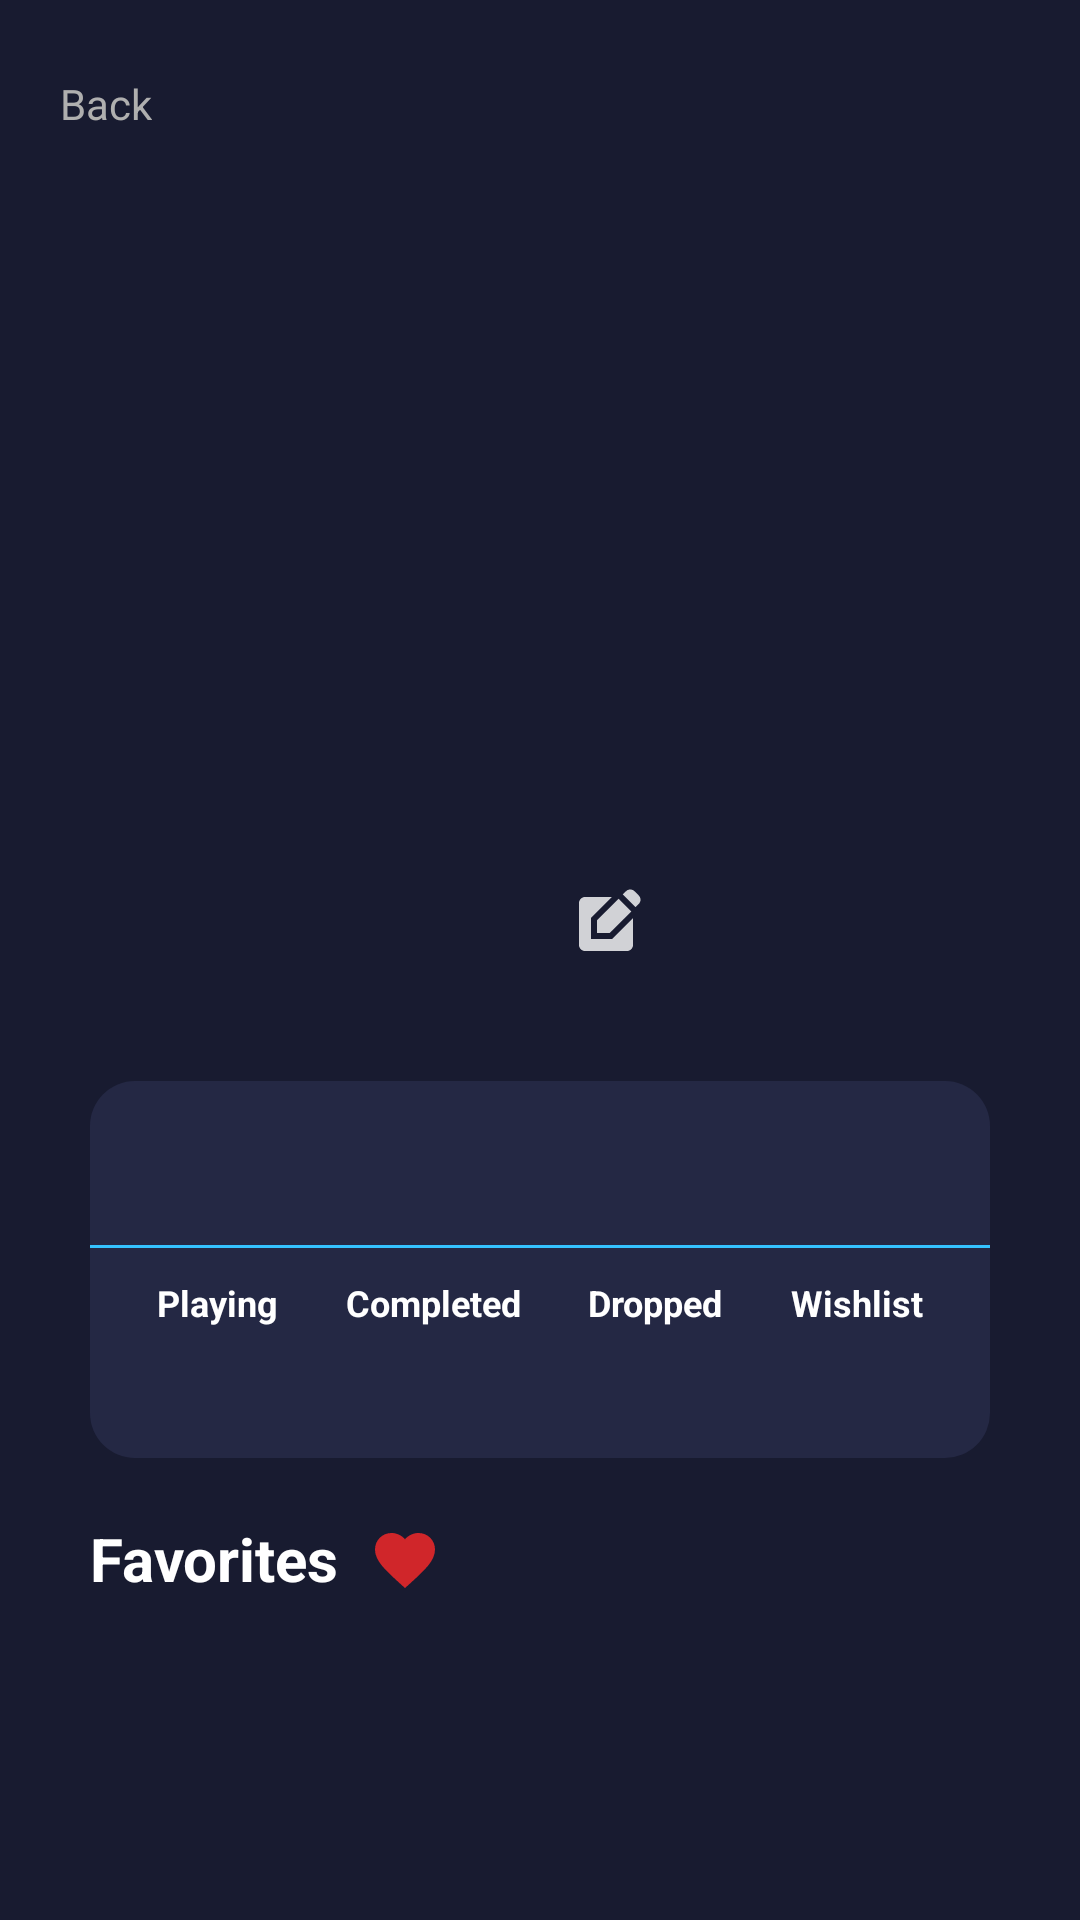

Icons on this 1080*1920 Android screen, each with the point to tap as (x,y):
edit square: (610,920)
